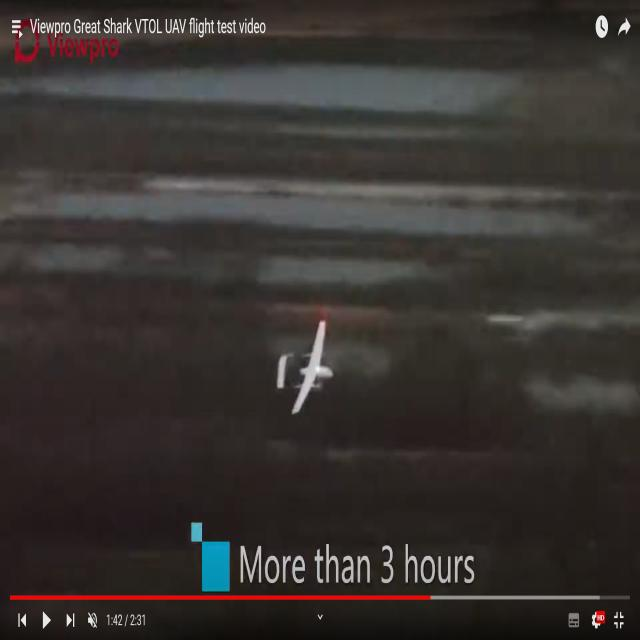iha: (276, 352, 334, 382)
